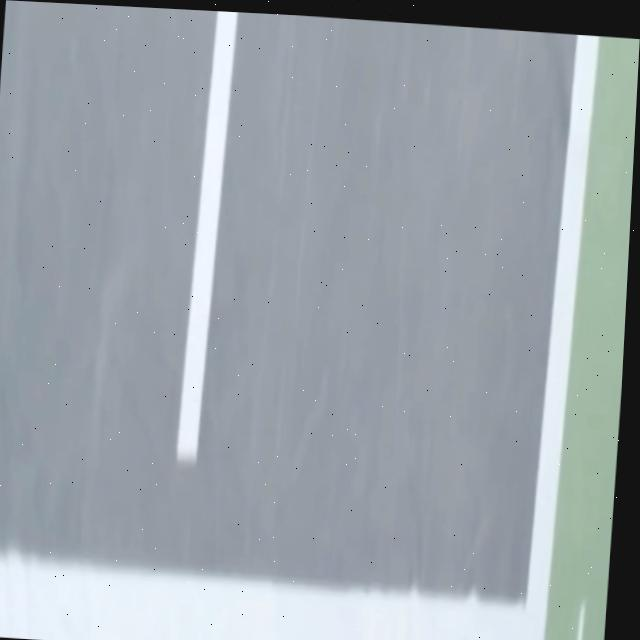center: (176, 11, 237, 463)
right: (523, 34, 597, 640)
